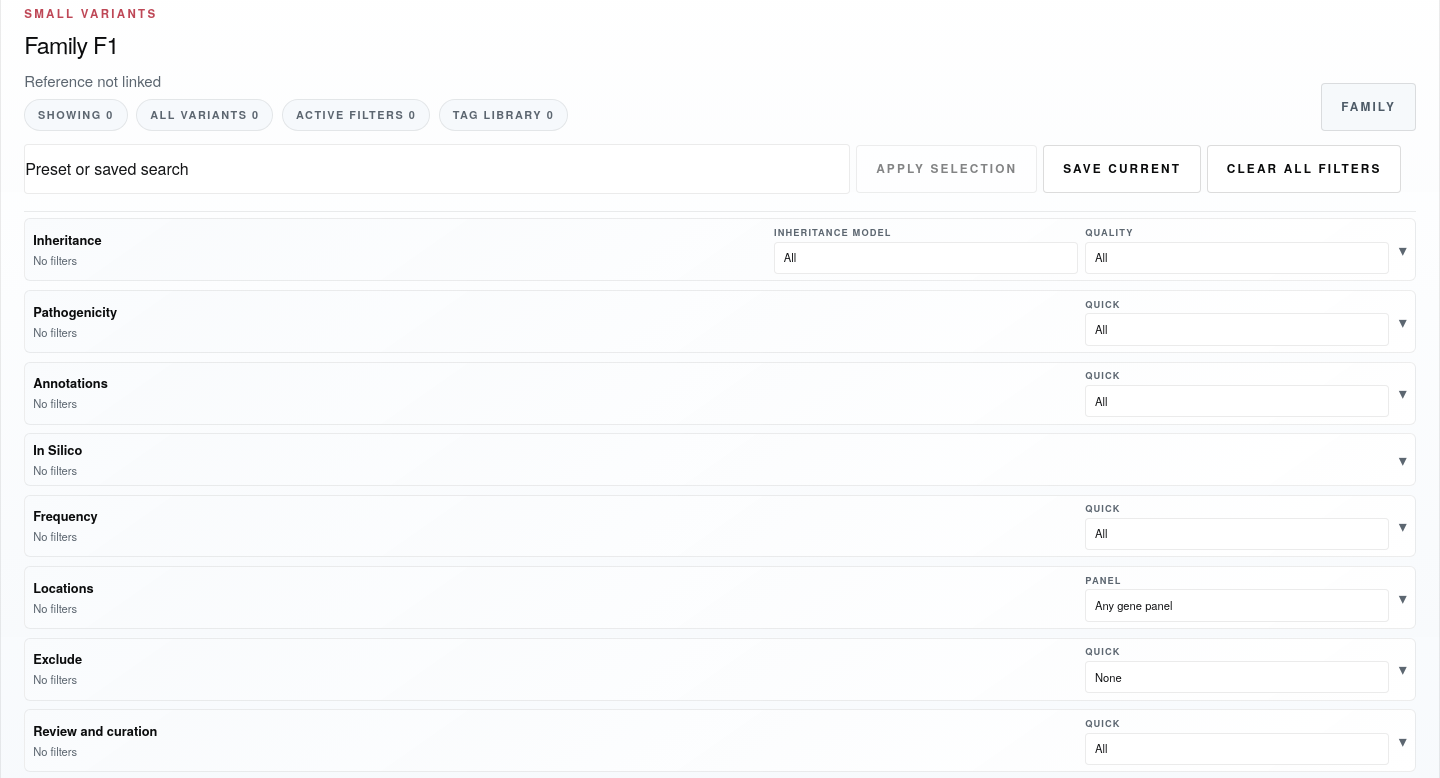
Test: FamilySmallVariantsPage › keeps phased heterozygous proband genotypes intact when applying a dominant preset
Step 1. Select "Dominant strict" in the dropdown named "preset or saved search" → (437, 169), box [24,144,850,194]
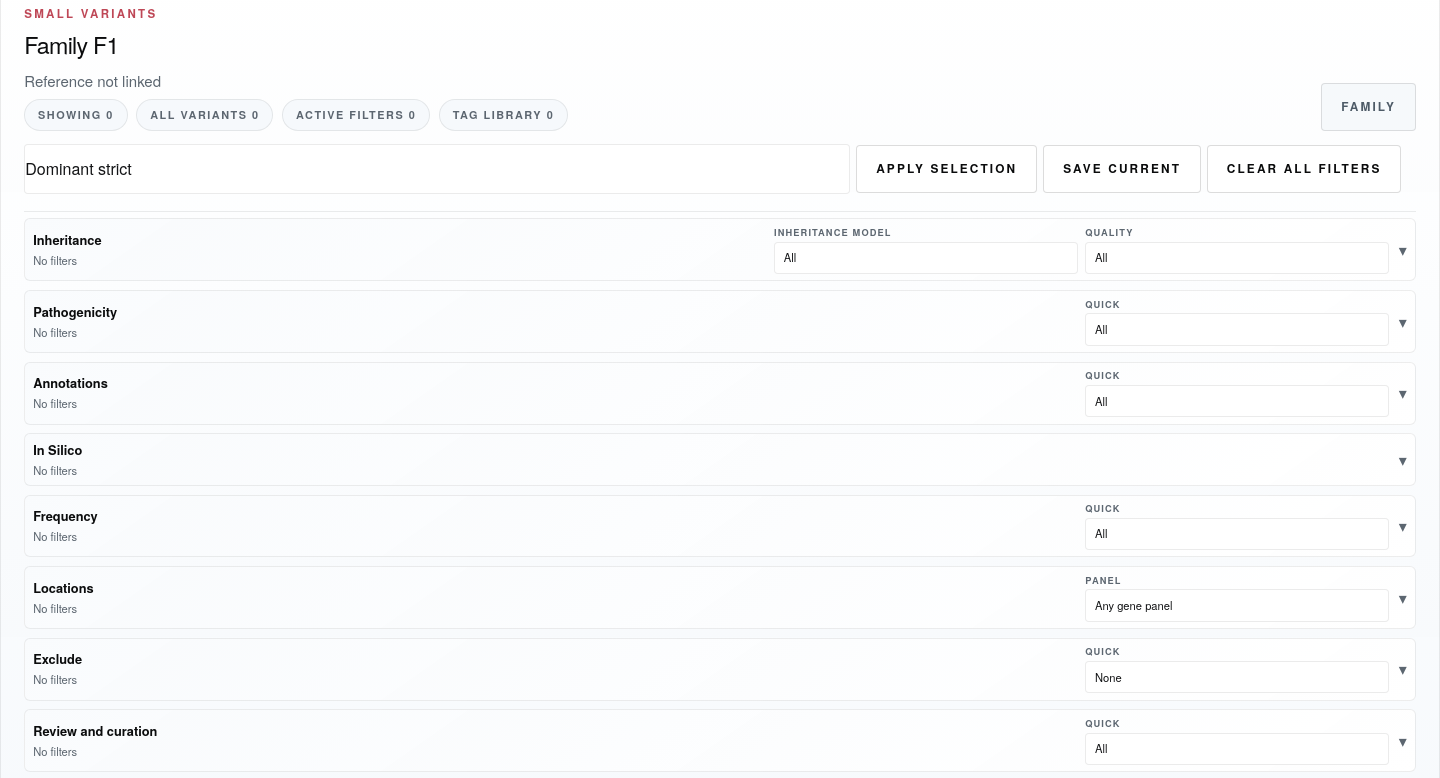
Step 2. Click the button "Apply selection" → (947, 169), box [856,145,1037,193]
(page scrolled)
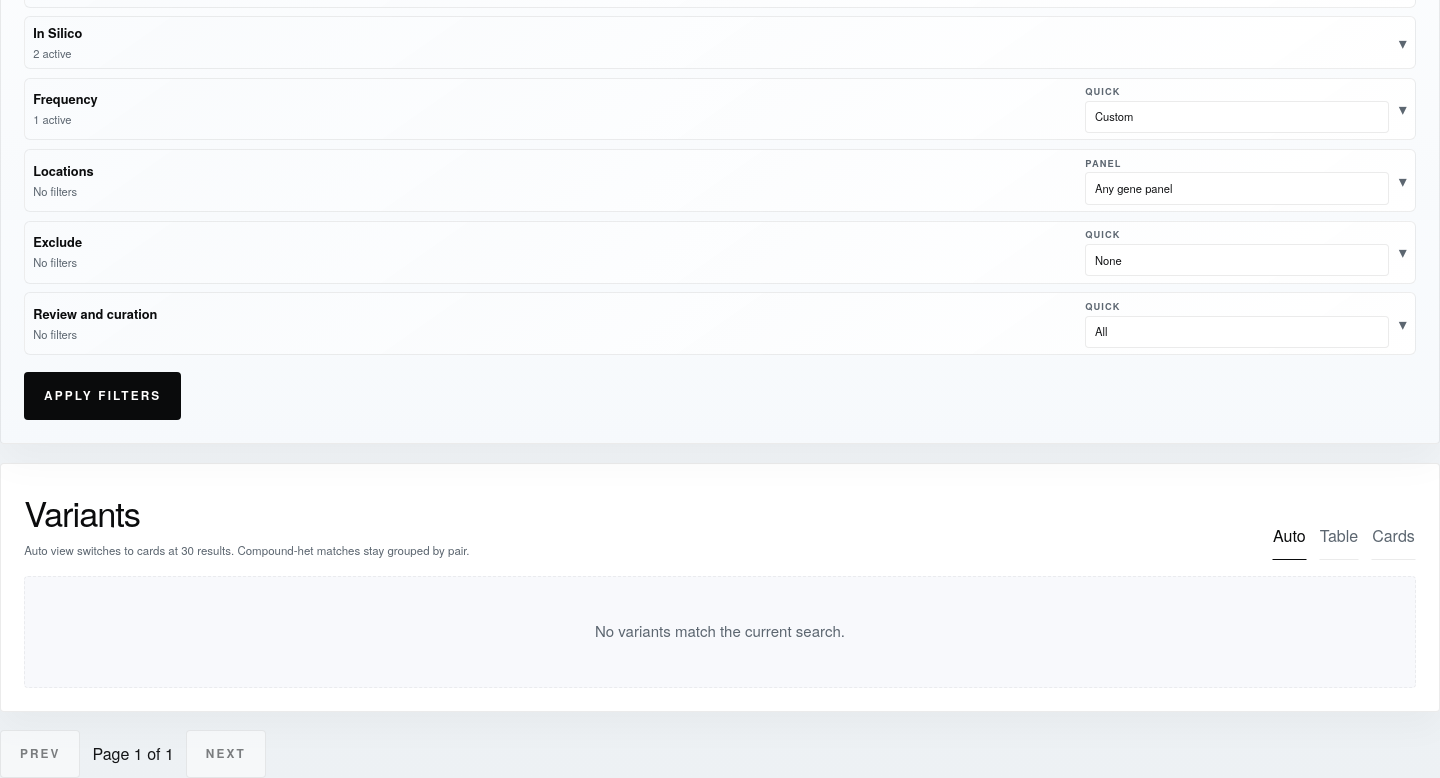
Step 3. Click the button "Apply filters" → (103, 396), box [24,372,181,420]
(page scrolled)
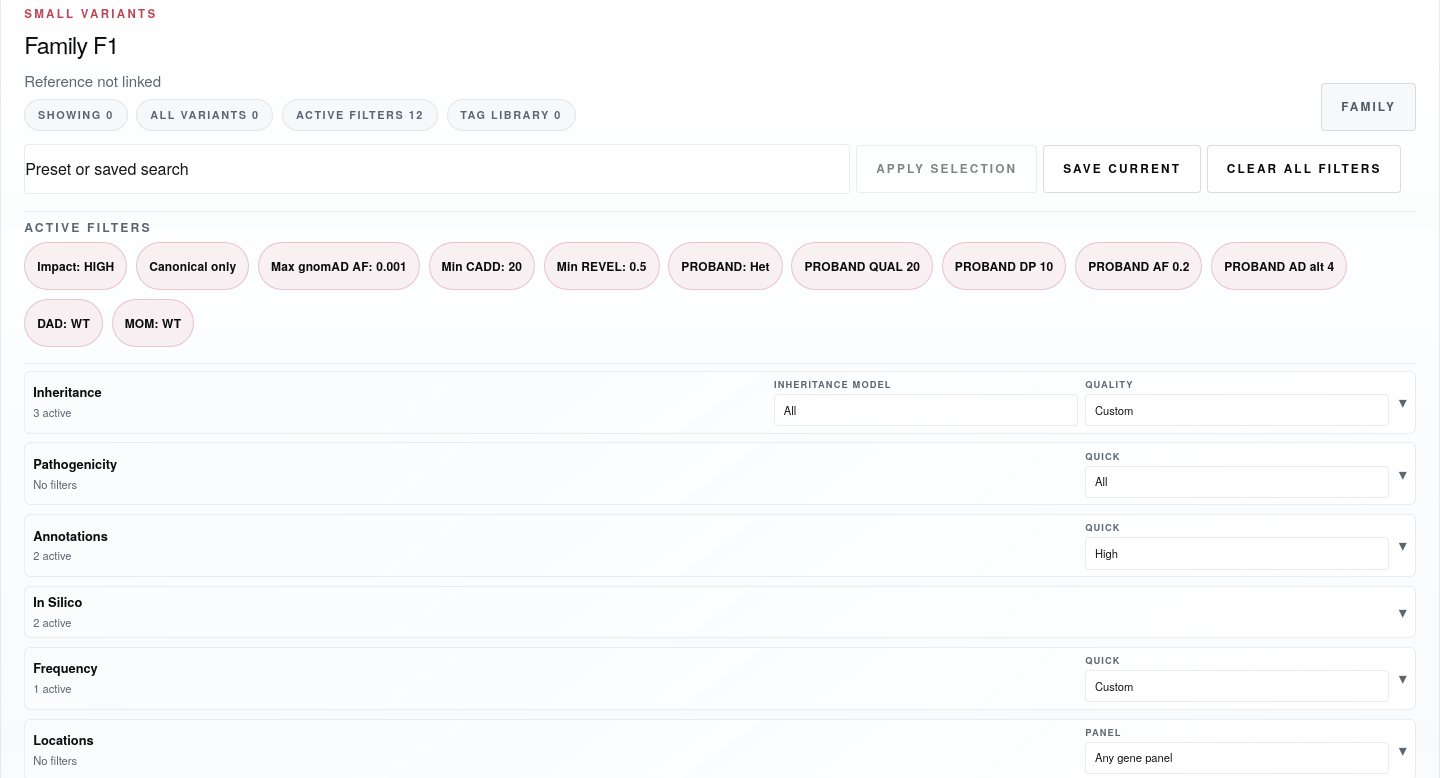
Expected: the button "PROBAND: Het" is shown, [668,242,783,290]
